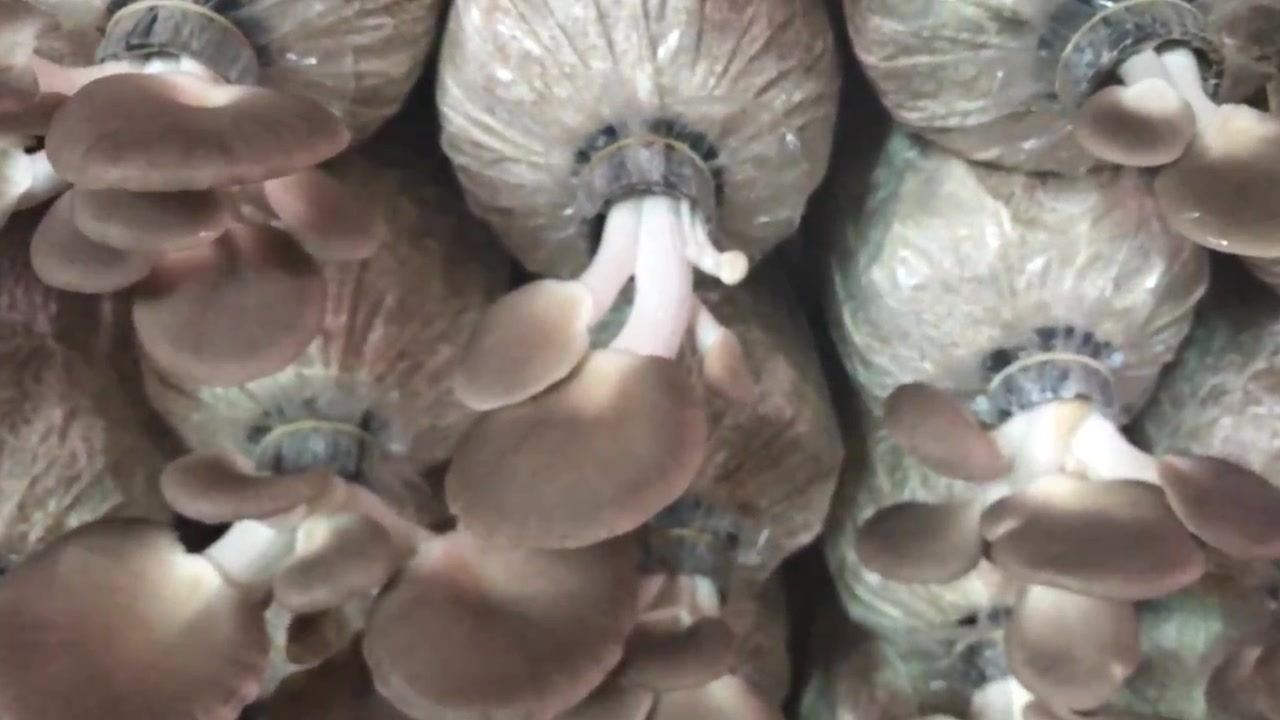nam: (1, 434, 641, 719), (849, 342, 1279, 720), (1, 1, 391, 393), (445, 118, 756, 555), (1050, 12, 1277, 266), (558, 509, 781, 712)
